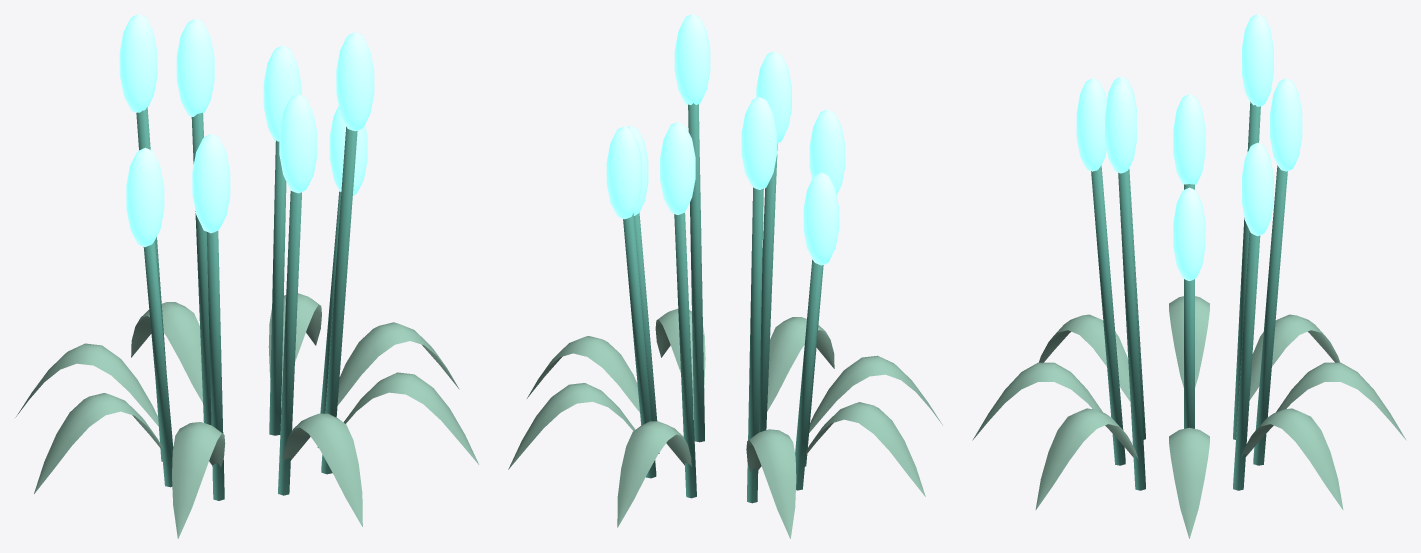
The model's file is pond_singing_rushes.glb.
The picture shows the model from 3 angles, left to right: view 1: azimuth 30°, elevation 25°; view 2: azimuth 150°, elevation 25°; view 3: azimuth 270°, elevation 25°; orthographic projection. The views are drawn at different scales.
Visible parts, largest first — view 1: POND_singing_rushes_rushstem_7, POND_singing_rushes_rushstem_6, POND_singing_rushes_blade_6, POND_singing_rushes_blade_5, POND_singing_rushes_rushstem_1, POND_singing_rushes_rushflame_4, POND_singing_rushes_rushflame_6, POND_singing_rushes_rushflame_5, POND_singing_rushes_rushflame_7, POND_singing_rushes_rushflame_3, POND_singing_rushes_rushflame_2, POND_singing_rushes_rushstem_4 (+12 smaller); view 2: POND_singing_rushes_rushstem_7, POND_singing_rushes_rushstem_3, POND_singing_rushes_rushstem_2, POND_singing_rushes_blade_2, POND_singing_rushes_blade_3, POND_singing_rushes_rushflame_1, POND_singing_rushes_rushflame_4, POND_singing_rushes_rushflame_3, POND_singing_rushes_rushflame_2, POND_singing_rushes_rushflame_7, POND_singing_rushes_rushstem_6, POND_singing_rushes_rushstem_4 (+11 smaller); view 3: POND_singing_rushes_rushstem_7, POND_singing_rushes_rushstem_2, POND_singing_rushes_rushstem_6, POND_singing_rushes_rushstem_1, POND_singing_rushes_blade_0, POND_singing_rushes_blade_7, POND_singing_rushes_blade_1, POND_singing_rushes_rushflame_0, POND_singing_rushes_rushflame_2, POND_singing_rushes_rushflame_4, POND_singing_rushes_rushflame_1, POND_singing_rushes_rushflame_7 (+10 smaller).
Part boxes in pixels (x1,y1,x2,y2): POND_singing_rushes_rushstem_7: (321, 126, 357, 474); POND_singing_rushes_rushstem_6: (278, 191, 301, 495); POND_singing_rushes_blade_6: (283, 413, 362, 526); POND_singing_rushes_blade_5: (172, 422, 225, 538); POND_singing_rushes_rushstem_1: (269, 140, 286, 435); POND_singing_rushes_rushflame_4: (126, 147, 164, 247); POND_singing_rushes_rushflame_6: (279, 94, 317, 193); POND_singing_rushes_rushflame_5: (192, 134, 230, 233); POND_singing_rushes_rushflame_7: (336, 32, 374, 131); POND_singing_rushes_rushflame_3: (119, 14, 157, 112); POND_singing_rushes_rushflame_2: (176, 18, 214, 116); POND_singing_rushes_rushstem_4: (143, 241, 173, 487); POND_singing_rushes_rushstem_7: (688, 103, 704, 442); POND_singing_rushes_rushstem_3: (747, 187, 763, 503); POND_singing_rushes_rushstem_2: (674, 212, 696, 498); POND_singing_rushes_blade_2: (617, 421, 691, 527); POND_singing_rushes_blade_3: (746, 429, 796, 538); POND_singing_rushes_rushflame_1: (606, 126, 642, 219); POND_singing_rushes_rushflame_4: (803, 172, 839, 265); POND_singing_rushes_rushflame_3: (741, 97, 777, 189); POND_singing_rushes_rushflame_2: (660, 122, 695, 214); POND_singing_rushes_rushflame_7: (674, 14, 710, 105); POND_singing_rushes_rushstem_6: (759, 143, 777, 432); POND_singing_rushes_rushstem_4: (795, 259, 822, 490); POND_singing_rushes_rushstem_7: (1118, 169, 1145, 490); POND_singing_rushes_rushstem_2: (1253, 165, 1287, 465); POND_singing_rushes_rushstem_6: (1091, 165, 1125, 465); POND_singing_rushes_rushstem_1: (1233, 231, 1260, 490); POND_singing_rushes_blade_0: (1169, 427, 1209, 538); POND_singing_rushes_blade_7: (1035, 408, 1138, 509); POND_singing_rushes_blade_1: (1240, 408, 1343, 509); POND_singing_rushes_rushflame_0: (1173, 187, 1205, 280); POND_singing_rushes_rushflame_2: (1270, 78, 1302, 171); POND_singing_rushes_rushflame_4: (1173, 94, 1205, 185); POND_singing_rushes_rushflame_1: (1242, 142, 1273, 235); POND_singing_rushes_rushflame_7: (1105, 80, 1136, 173).
Bounding box in the file's own units: 1.34 × 1.33 × 1.26.
